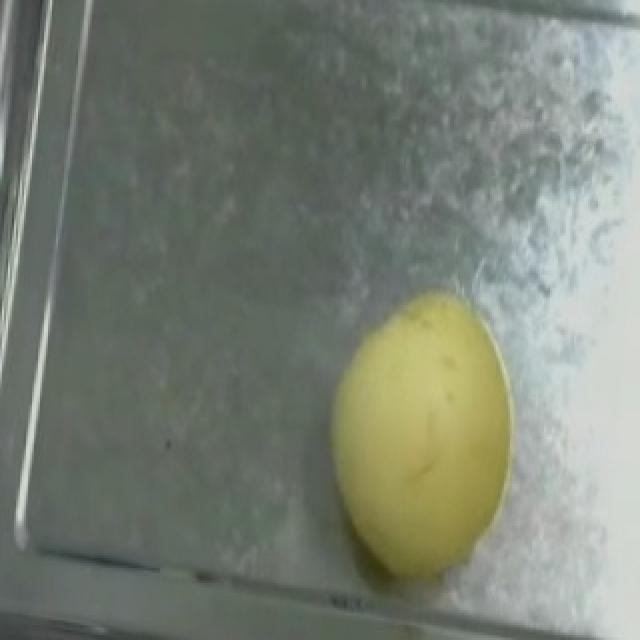Fruit: (302, 273, 534, 585)
